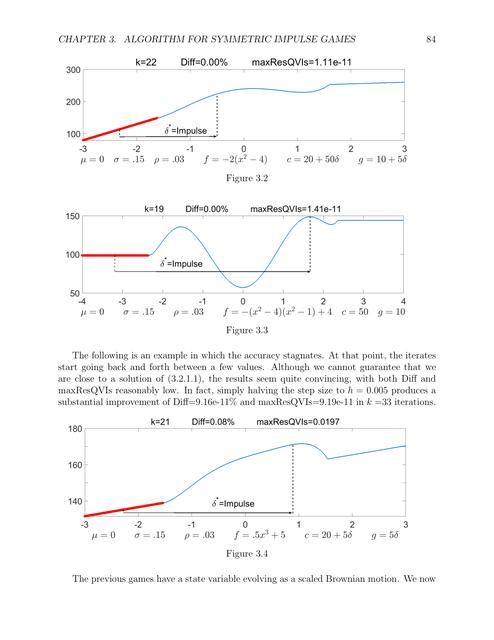box: (69, 416, 410, 544), (62, 204, 409, 320), (64, 53, 409, 168)
